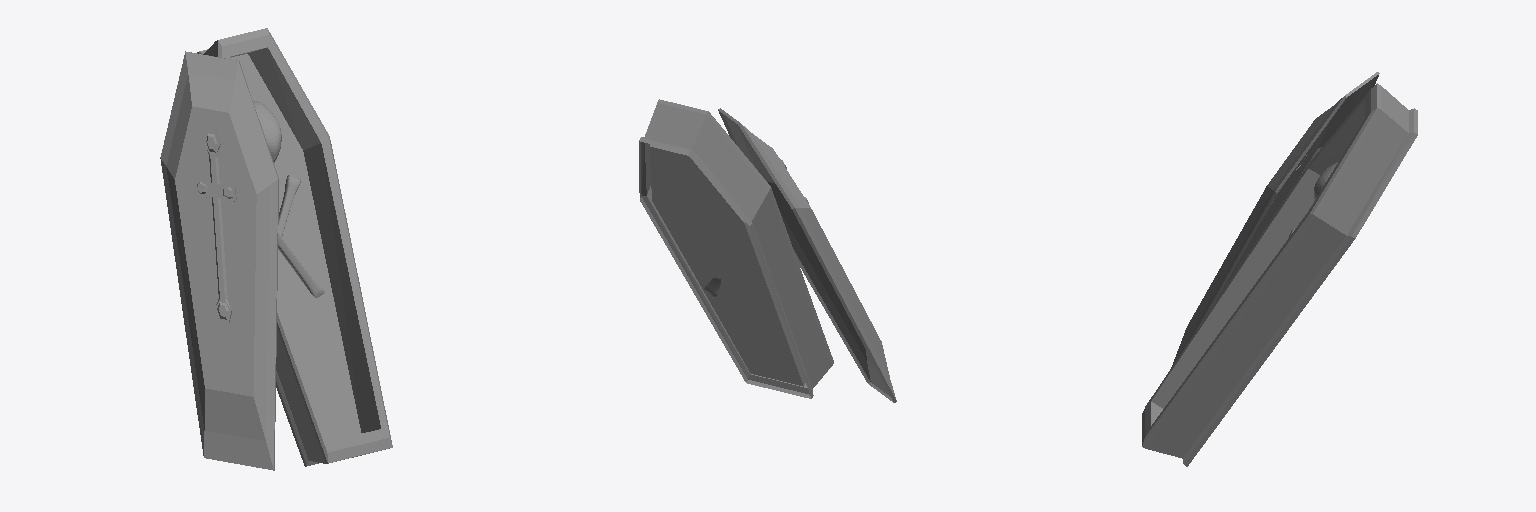
Rendered from ataud.obj.
The picture shows the model from 3 angles: view 1: azimuth 30°, elevation 25°; view 2: azimuth 150°, elevation 25°; view 3: azimuth 270°, elevation 25°; orthographic projection.
Visible parts, largest first — view 1: Coffin, Skull, Bone02, Bone01; view 2: Coffin; view 3: Coffin.
Part boxes in pixels (bbox=[...]): Coffin: bbox=[160, 28, 392, 470]; Skull: bbox=[253, 101, 281, 162]; Bone02: bbox=[278, 233, 324, 297]; Bone01: bbox=[278, 175, 300, 236]; Coffin: bbox=[639, 99, 896, 402]; Coffin: bbox=[1142, 72, 1417, 466].
Bounding box in the file's own units: 22.62 × 42.41 × 29.87.